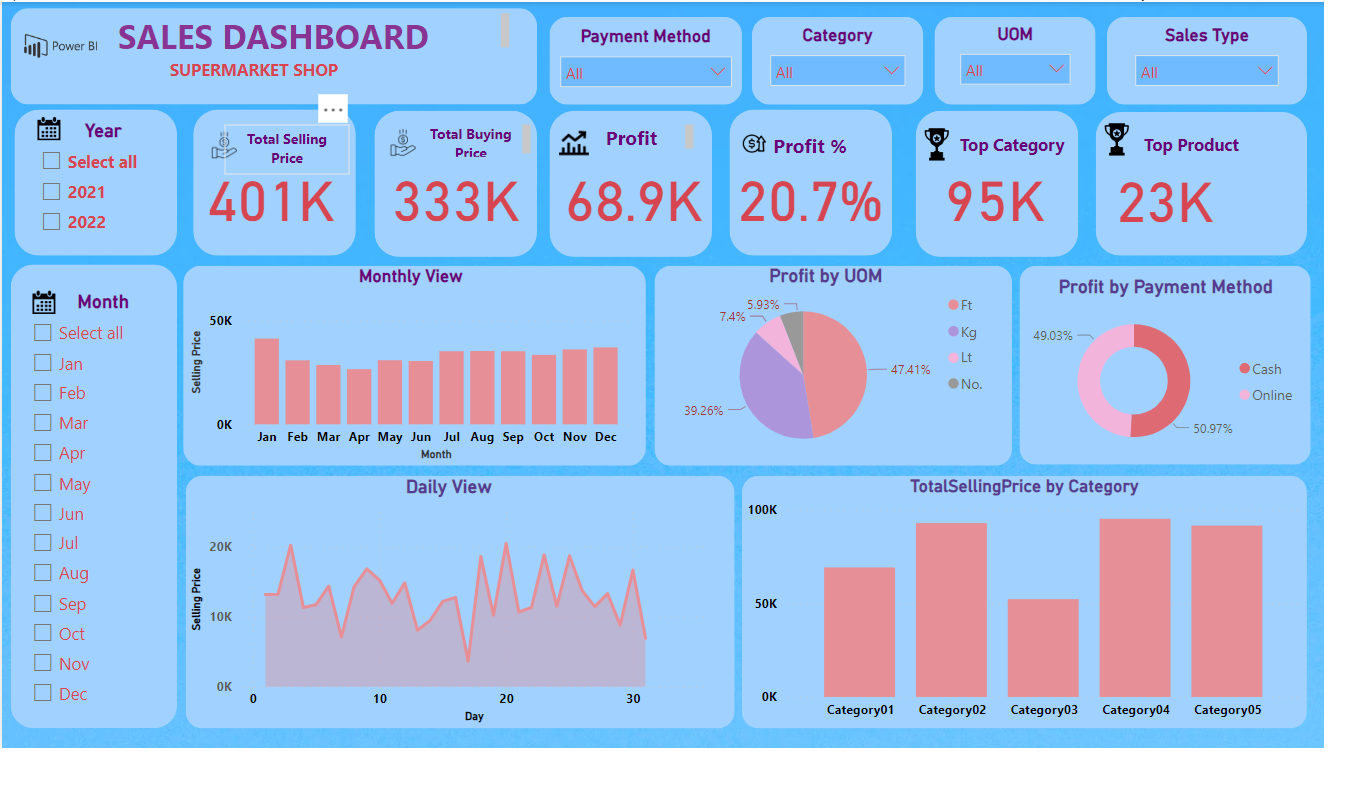

The page's visual inventory and layout, read from the dashboard file:
{"tool":"powerbi","page":{"name":"Sales Dashbord","canvas":[1280,720],"ordinal":0},"visuals":[{"type":"shape","box":[1066.1,14.5,193,84.4],"z":0},{"type":"shape","box":[899.7,14.5,155.6,84.4],"z":1000},{"type":"shape","box":[528.2,14.5,185.7,84.4],"z":2000},{"type":"shape","box":[8.4,6,507.7,92.9],"z":3000},{"type":"textbox","box":[129,49.4,227.9,35],"z":4000},{"type":"image","box":[12.1,0,89.2,84.4],"z":5000},{"type":"textbox","box":[37.4,6,457.1,47],"z":6000},{"type":"shape","box":[12.1,103.7,156.8,141.1],"z":7000},{"type":"shape","box":[8.4,253.3,160.4,447.4],"z":8000},{"type":"shape","box":[174.9,254.5,446.2,193],"z":9000},{"type":"shape","box":[629.5,254.5,344.9,193],"z":10000},{"type":"shape","box":[981.7,254.5,281,191.8],"z":11000},{"type":"shape","box":[177.3,457.1,529.4,243.6],"z":12000},{"type":"slicer","title":"Payment Method","fields":{"Values":["InputData.PAYMENT MODE"]},"box":[528.2,22.9,185.7,92.9],"z":13000},{"type":"shape","box":[723.6,14.5,165.2,84.4],"z":14000},{"type":"slicer","title":"Category","fields":{"Values":["MasterData.CATEGORY"]},"box":[730.9,21.7,150.8,92.9],"z":15000},{"type":"slicer","title":"UOM","fields":{"Values":["MasterData.UOM"]},"box":[914.2,20.5,126.6,92.9],"z":16000},{"type":"slicer","title":"Sales Type","fields":{"Values":["InputData.SALE TYPE"]},"box":[1083,21.7,159.2,92.9],"z":17000},{"type":"slicer","title":"Year","fields":{"Values":["InputData.Year"]},"box":[26.5,113.4,142.3,121.8],"z":18000},{"type":"slicer","title":"Month","fields":{"Values":["InputData.Month Name"]},"box":[18.1,278.6,159.2,412.5],"z":19000},{"type":"shape","box":[184.5,103.7,156.8,141.1],"z":20000},{"type":"shape","box":[359.4,104.9,156.8,141.1],"z":21000},{"type":"shape","box":[528.2,104.9,156.8,141.1],"z":22000},{"type":"shape","box":[701.9,103.7,156.8,141.1],"z":23000},{"type":"shape","box":[881.6,104.9,156.8,141.1],"z":24000},{"type":"shape","box":[1055.3,106.1,203.8,138.7],"z":25000},{"type":"image","box":[13.3,273.8,54.3,32.6],"z":26000},{"type":"image","box":[18.1,106.1,54.3,32.6],"z":27000},{"type":"image","box":[184.5,118.2,59.1,39.8],"z":28000},{"type":"card","title":"Total Selling Price","fields":{"Values":["InputData.TotalSellingPrice"]},"box":[184.5,147.1,150.8,77.2],"z":29000},{"type":"textbox","box":[214.7,118.2,120.6,48.2],"z":30000},{"type":"image","box":[357,115.8,59.1,39.8],"z":31000},{"type":"card","title":"Total Selling Price","fields":{"Values":["InputData.TotalBuyingPrice"]},"box":[363,147.1,150.8,77.2],"z":32000},{"type":"textbox","box":[397.9,113.9,116.6,41.2],"z":33000},{"type":"image","box":[516.2,109.7,71.2,51.9],"z":34000},{"type":"card","title":"Total Selling Price","fields":{"Values":["InputData.Profit"]},"box":[534.3,147.1,150.8,77.2],"z":35000},{"type":"textbox","box":[551.2,113.4,120.6,33.8],"z":36000},{"type":"card","title":"Total Selling Price","fields":{"Values":["InputData.Profit %"]},"box":[701.9,147.1,156.8,77.2],"z":37000},{"type":"image","box":[701.9,120.6,47,32.6],"z":38000},{"type":"textbox","box":[730.9,120.6,97.7,38.6],"z":39000},{"type":"card","title":"Total Selling Price","fields":{"Values":["InputData.TotalSellingPrice"]},"box":[879.6,146.8,157.8,76.8],"z":40000},{"type":"image","box":[871.4,116.6,59,41.2],"z":41000},{"type":"textbox","box":[913.9,122.1,120.8,32.9],"z":42000},{"type":"image","box":[1045.6,112.5,59,41.2],"z":43000},{"type":"card","title":"Total Selling Price","fields":{"Values":["InputData.TotalSellingPrice"]},"box":[1055.2,148.2,134.5,76.8],"z":44000},{"type":"textbox","box":[1082.7,122.1,129,31.6],"z":45000},{"type":"columnChart","title":"Monthly View","fields":{"Category":["InputData.Month Name"],"Y":["InputData.TotalSellingPrice"]},"box":[177.3,254.5,434.2,193],"z":45001},{"type":"pieChart","title":"Profit by UOM","fields":{"Y":["InputData.Profit"],"Category":["MasterData.UOM"]},"box":[629.5,253.3,330.5,193],"z":45002},{"type":"donutChart","title":"Profit by Payment Method","fields":{"Y":["InputData.Profit"],"Category":["InputData.PAYMENT MODE"]},"box":[986.5,264.1,272.6,182.1],"z":45003},{"type":"areaChart","title":"Daily View","fields":{"Y":["InputData.TotalSellingPrice"],"Category":["InputData.Day"]},"box":[177.3,457.1,507.7,243.6],"z":45004},{"type":"shape","box":[714,457.1,545.1,243.6],"z":45005},{"type":"columnChart","title":"TotalSellingPrice by Category","fields":{"Y":["InputData.TotalSellingPrice"],"Category":["MasterData.CATEGORY"]},"box":[714,457.1,545.1,243.6],"z":45006}]}

Visuals, with their boxes in screenshot pixels (x1, y1, x2, y2):
shape: select_region(1112, 29, 1313, 117)
shape: select_region(939, 29, 1101, 117)
shape: select_region(551, 29, 745, 117)
shape: select_region(9, 20, 538, 117)
textbox: select_region(135, 66, 372, 102)
image: select_region(13, 14, 106, 102)
textbox: select_region(39, 20, 516, 69)
shape: select_region(13, 122, 176, 269)
shape: select_region(9, 278, 176, 745)
shape: select_region(182, 280, 648, 481)
shape: select_region(657, 280, 1016, 481)
shape: select_region(1024, 280, 1317, 480)
shape: select_region(185, 491, 737, 745)
"Payment Method" slicer: select_region(551, 38, 745, 135)
shape: select_region(755, 29, 927, 117)
"Category" slicer: select_region(762, 37, 920, 134)
"UOM" slicer: select_region(954, 35, 1086, 132)
"Sales Type" slicer: select_region(1130, 37, 1296, 134)
"Year" slicer: select_region(28, 132, 176, 259)
"Month" slicer: select_region(19, 305, 185, 735)
shape: select_region(192, 122, 356, 269)
shape: select_region(375, 124, 538, 271)
shape: select_region(551, 124, 715, 271)
shape: select_region(732, 122, 896, 269)
shape: select_region(920, 124, 1083, 271)
shape: select_region(1101, 125, 1313, 269)
image: select_region(14, 300, 71, 334)
image: select_region(19, 125, 76, 159)
image: select_region(192, 137, 254, 179)
"Total Selling Price" card: select_region(192, 168, 350, 248)
textbox: select_region(224, 137, 350, 188)
image: select_region(372, 135, 434, 176)
"Total Selling Price" card: select_region(379, 168, 536, 248)
textbox: select_region(415, 133, 537, 176)
image: select_region(538, 129, 613, 183)
"Total Selling Price" card: select_region(557, 168, 715, 248)
textbox: select_region(575, 132, 701, 168)
"Total Selling Price" card: select_region(732, 168, 896, 248)
image: select_region(732, 140, 781, 174)
textbox: select_region(762, 140, 864, 180)
"Total Selling Price" card: select_region(918, 167, 1082, 247)
image: select_region(909, 136, 971, 179)
textbox: select_region(953, 141, 1079, 176)
image: select_region(1091, 131, 1152, 174)
"Total Selling Price" card: select_region(1101, 169, 1241, 249)
textbox: select_region(1129, 141, 1264, 174)
"Monthly View" columnChart: select_region(185, 280, 638, 481)
"Profit by UOM" pieChart: select_region(657, 278, 1001, 480)
"Profit by Payment Method" donutChart: select_region(1029, 290, 1313, 480)
"Daily View" areaChart: select_region(185, 491, 715, 745)
shape: select_region(745, 491, 1313, 745)
"TotalSellingPrice by Category" columnChart: select_region(745, 491, 1313, 745)
